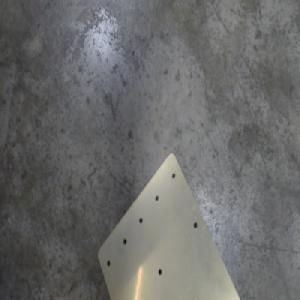MetalSheet: (96, 147, 246, 300)
